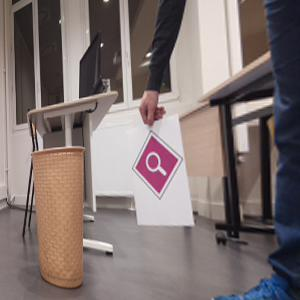search: (132, 132, 183, 201)
